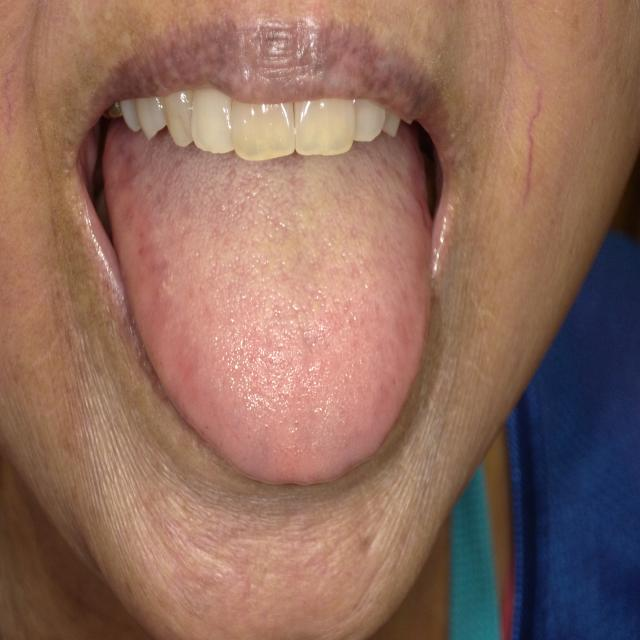huangtaishe: (103, 118, 430, 485)
